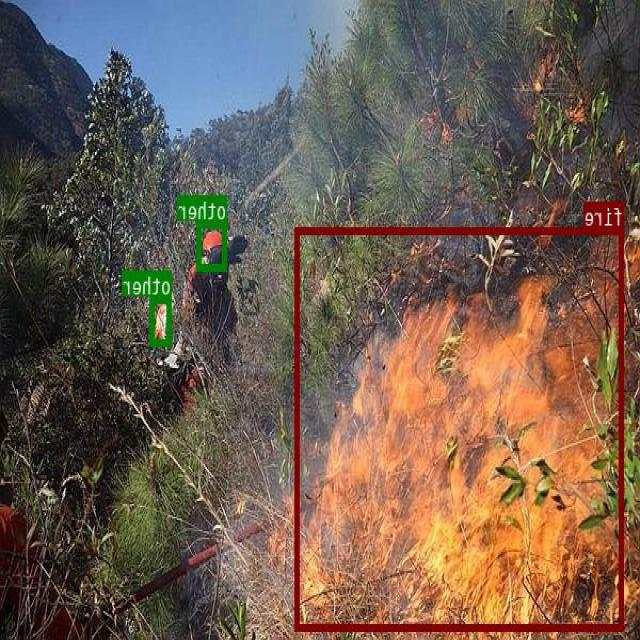fire: (296, 226, 625, 630)
other: (198, 220, 227, 270), (151, 296, 172, 344)
